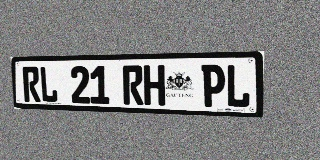1: (89, 66, 109, 104)
2: (70, 66, 90, 104)
H: (143, 65, 165, 106)
L: (226, 64, 251, 108), (39, 66, 58, 103)
P: (201, 64, 225, 107)
R: (122, 65, 143, 105), (22, 66, 41, 102)
